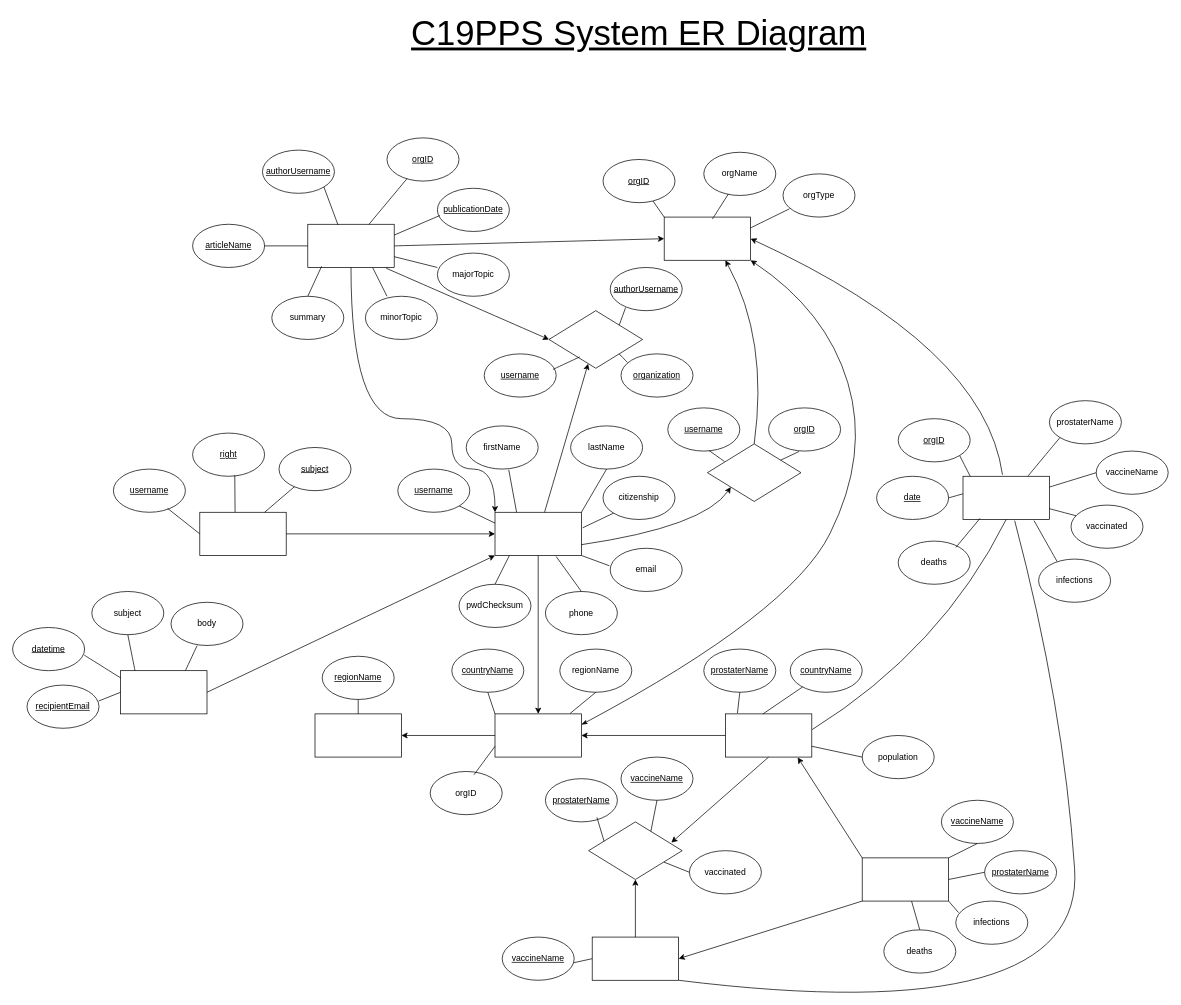
The diagram is 1181 pixels wide and 1005 high, and some of its shapes have lost their labels. Here are the shapes that lost their labels. From the top down, the centre of each, then its label:
At [350,245]: "Articles".
At [707,238]: "Organizations".
At [595,339]: "Subscriptions".
At [754,472]: "Delegates".
At [1005,497]: "Update Logs".
At [242,533]: "Privileges".
At [537,533]: "Users".
At [163,692]: "Emails Logs".
At [357,735]: "Regions".
At [537,735]: "Countries".
At [768,735]: "ProStaTer".
At [635,850]: "Vaccinations".
At [905,879]: "Cases".
At [635,958]: "Vaccines".
